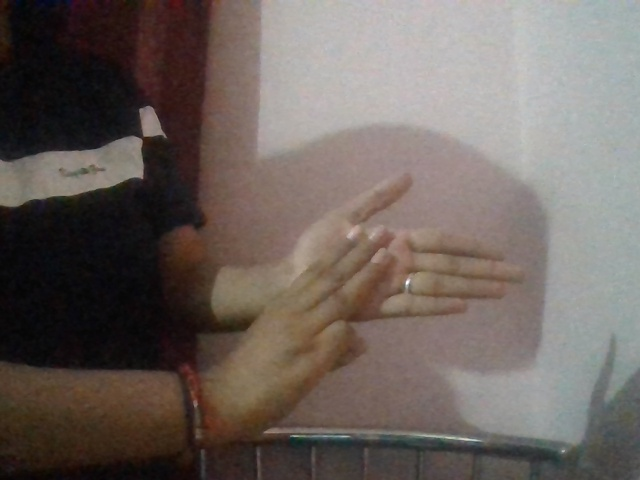M: (202, 161, 538, 439)
